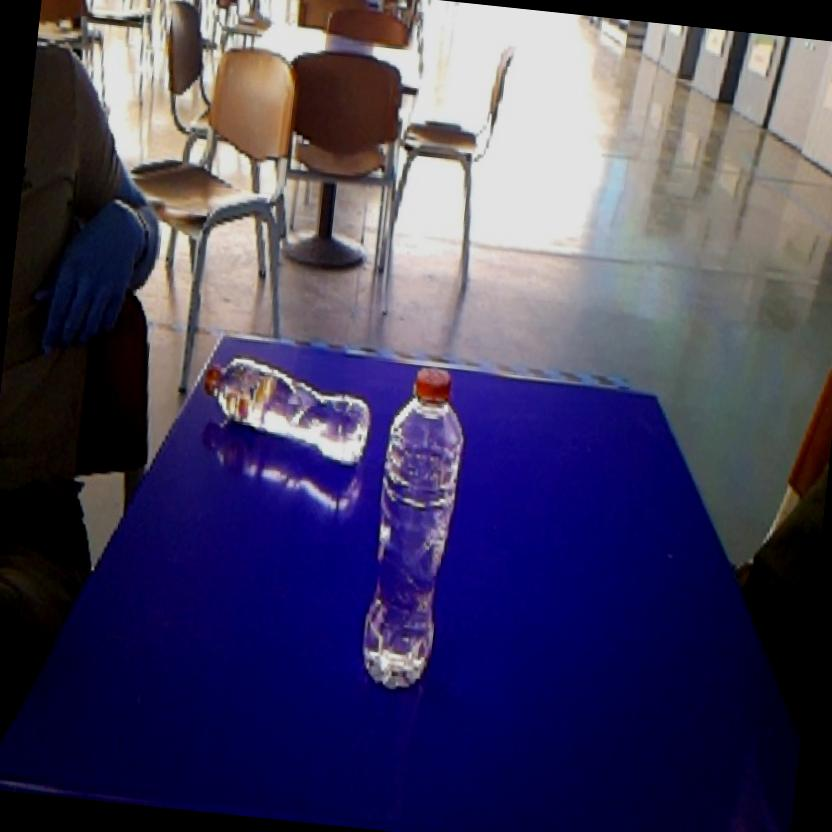no_label: (350, 356, 480, 702)
